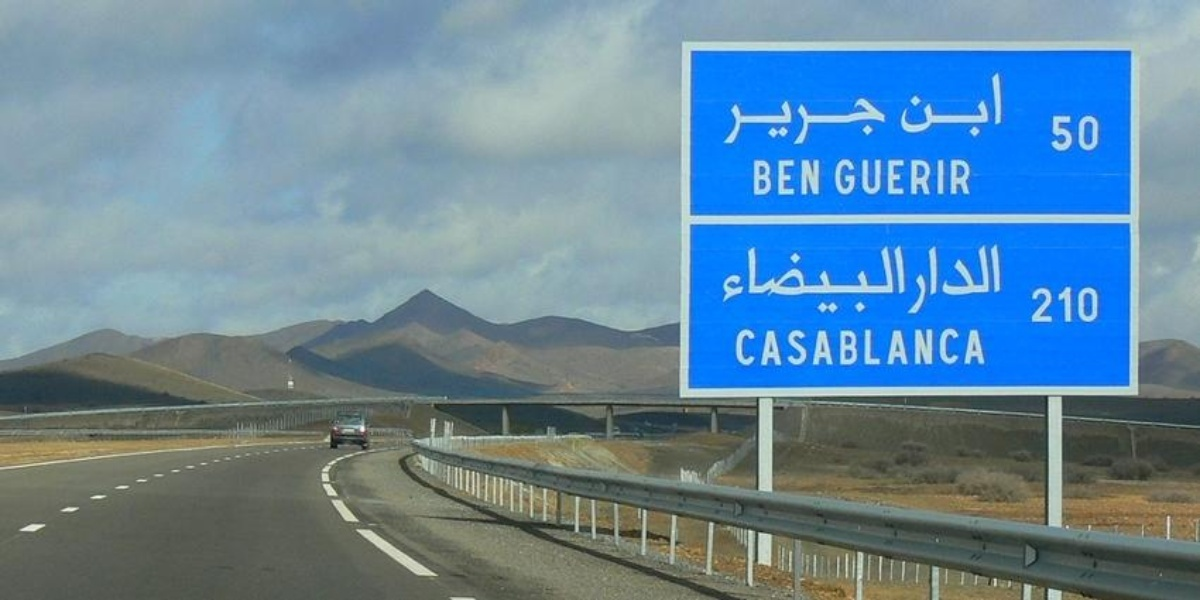text: (929, 243, 944, 321), (945, 243, 960, 321), (961, 243, 976, 321), (977, 243, 992, 321), (993, 243, 1008, 321), (913, 65, 928, 140), (929, 65, 944, 140), (945, 65, 960, 140), (961, 65, 976, 140), (977, 65, 992, 140), (721, 242, 736, 317), (737, 242, 752, 317), (753, 242, 768, 317), (769, 242, 784, 317), (785, 242, 800, 317), (801, 242, 816, 317), (817, 242, 832, 317), (833, 242, 848, 317), (849, 242, 864, 317), (865, 242, 880, 317), (881, 242, 896, 317), (993, 65, 1007, 140), (897, 242, 911, 317), (901, 65, 912, 140), (737, 95, 752, 150), (753, 95, 768, 150), (769, 95, 784, 150), (785, 95, 800, 150), (801, 95, 816, 150), (817, 95, 832, 150), (833, 95, 848, 150), (849, 95, 864, 150), (865, 95, 880, 150), (723, 95, 736, 150), (1057, 111, 1072, 154), (1073, 111, 1088, 154), (849, 156, 864, 198), (865, 156, 880, 198), (881, 156, 896, 198), (897, 156, 912, 198), (913, 156, 928, 198), (929, 156, 944, 198), (945, 156, 960, 198), (753, 157, 768, 197), (769, 157, 784, 197), (785, 157, 800, 197), (801, 157, 816, 197), (1025, 284, 1040, 324), (1041, 284, 1056, 324), (1057, 284, 1072, 324), (1073, 284, 1088, 324), (961, 156, 975, 198), (737, 329, 752, 368), (753, 329, 768, 368), (769, 329, 784, 368), (785, 329, 800, 368), (801, 329, 816, 368), (817, 329, 832, 368), (833, 329, 848, 368), (849, 329, 864, 368), (865, 329, 880, 368), (881, 329, 896, 368), (897, 329, 912, 368), (913, 329, 928, 368), (929, 329, 944, 368), (945, 329, 960, 368), (961, 329, 976, 368), (836, 156, 848, 198), (1089, 111, 1100, 154), (881, 95, 889, 150), (1089, 284, 1100, 324), (1009, 243, 1014, 321), (977, 329, 987, 368), (1049, 111, 1056, 154), (817, 157, 822, 197), (718, 242, 720, 317), (927, 243, 928, 321), (735, 329, 736, 368)
